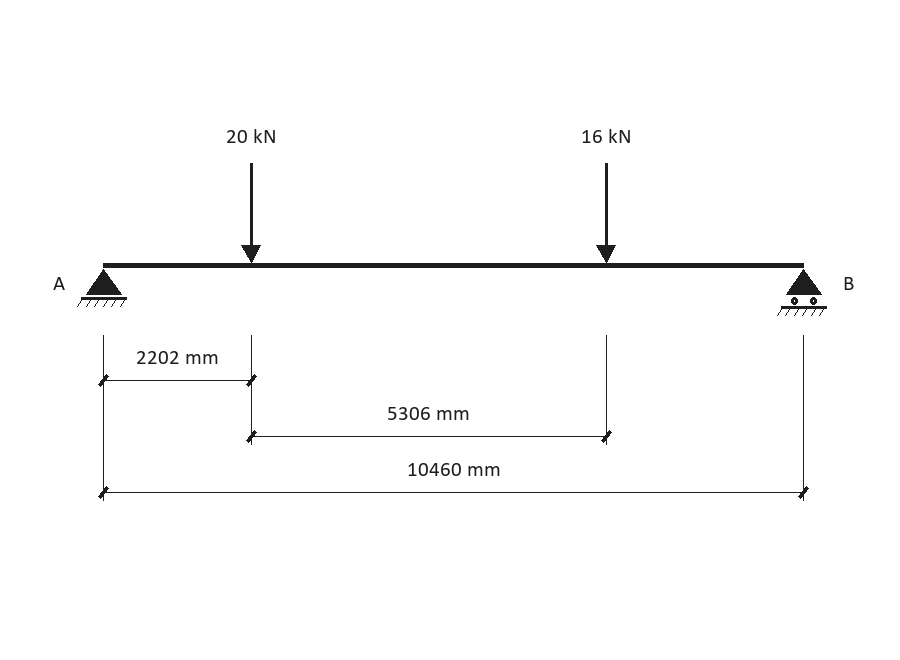pin_support: (77, 269, 127, 307)
point_load: (241, 163, 261, 263), (596, 163, 616, 263)
roller_support: (777, 269, 827, 316)
